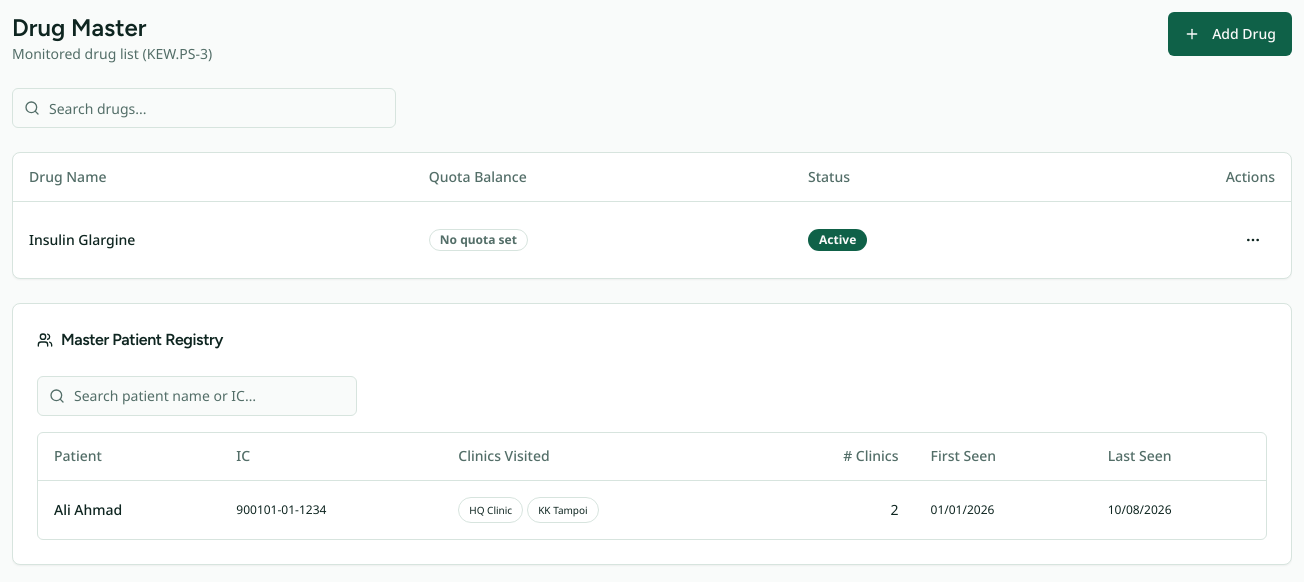
Test: DrugMaster › Master Patient Registry section › narrows results when searching by partial name, after the 300ms debounce
Expected: the text "Ali Ahmad" is shown, [38,480,220,539]
In the field with placeholder "Search patient name or IC…": point(197, 396) [37,376,357,416], type "Siti"
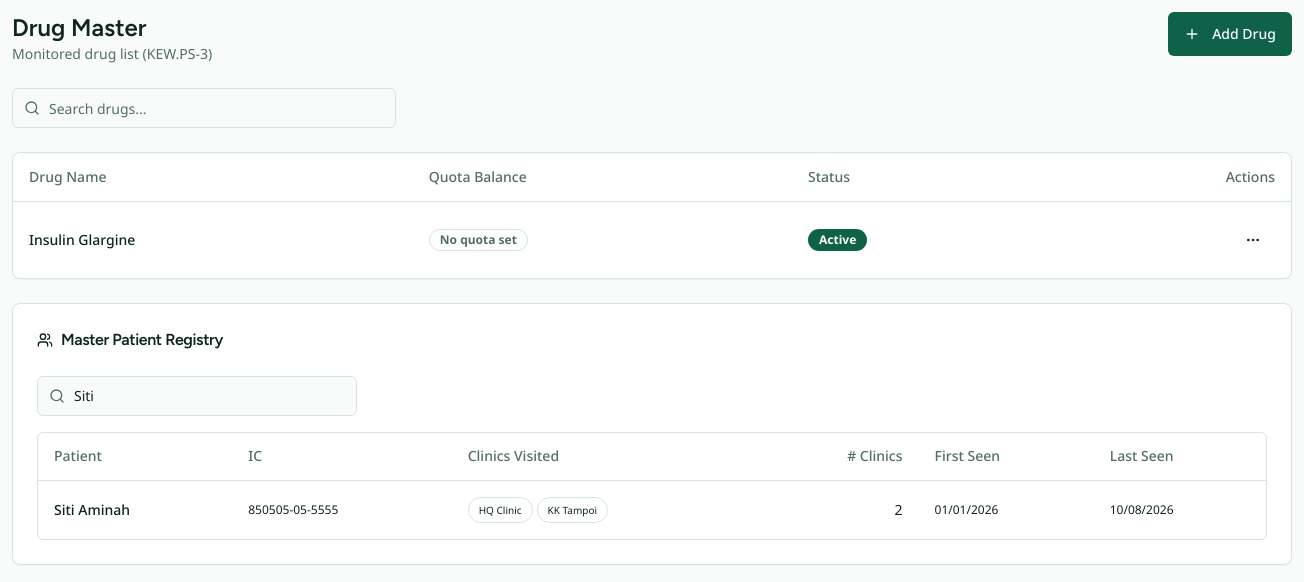
Expected: the text "Siti Aminah" is shown, [38,480,232,539]
Expected: the text "Ali Ahmad" is gone
